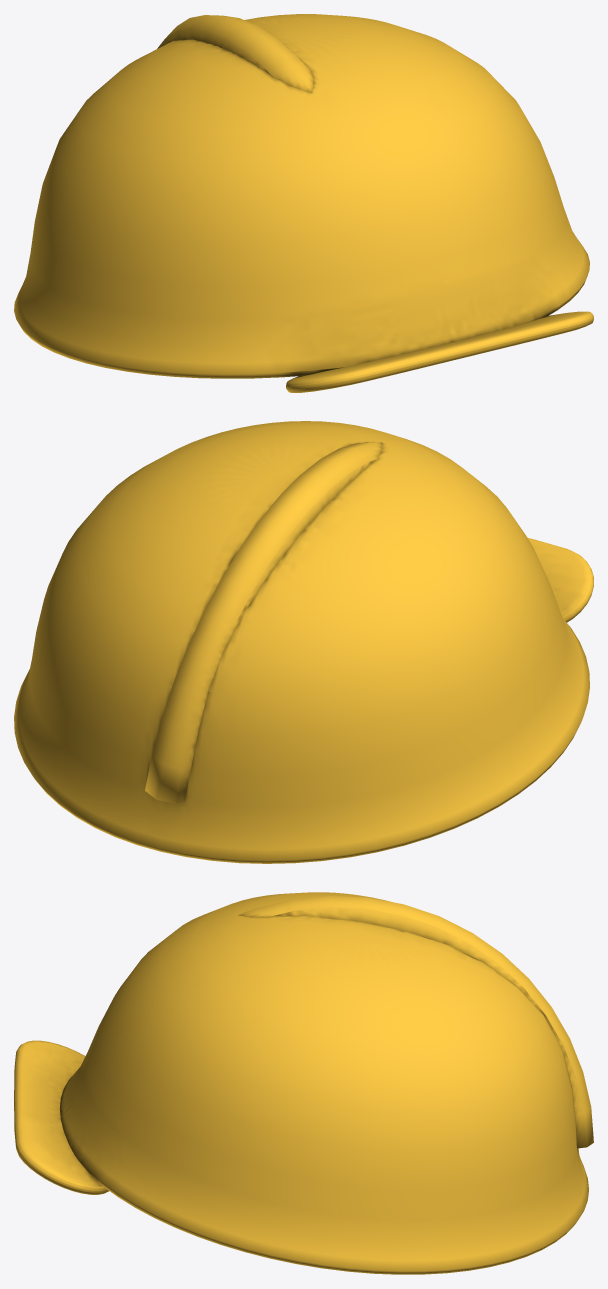
The model's file is hat_hard.glb.
3 views of the same model, one above another, from view 1: azimuth 30°, elevation 25°; view 2: azimuth 150°, elevation 25°; view 3: azimuth 270°, elevation 25° (orthographic). The views are drawn at different scales.
Visible parts, largest first — view 1: hat_hard; view 2: hat_hard; view 3: hat_hard.
Part boxes in pixels (x1,y1,x2,y2): hat_hard: [14, 14, 593, 392]; hat_hard: [14, 421, 593, 863]; hat_hard: [14, 892, 593, 1274].
Size of the model in its own units: 0.6723 by 0.3863 by 0.7232.
1 material, 1 textured.
